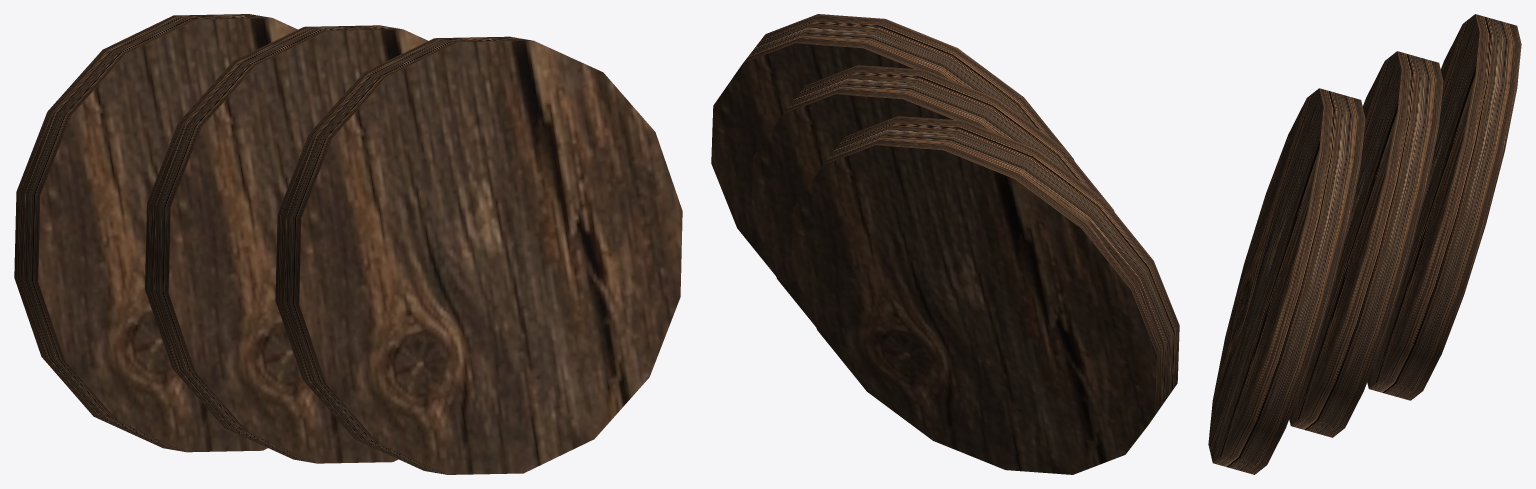
The model's file is wheelParts.glb.
3 views of the same model, side by side, from view 1: azimuth 30°, elevation 25°; view 2: azimuth 150°, elevation 25°; view 3: azimuth 270°, elevation 25° (orthographic). The views are drawn at different scales.
Parts seen in each view (by area): view 1: part_0; view 2: part_0; view 3: part_0.
Part boxes in pixels (<box>): part_0: <box>14,14,682,474</box>; part_0: <box>711,14,1179,474</box>; part_0: <box>1208,14,1521,474</box>.
Bounding box in the file's own units: 0.58 × 0.3954 × 0.3212.
1 material, 1 textured.
